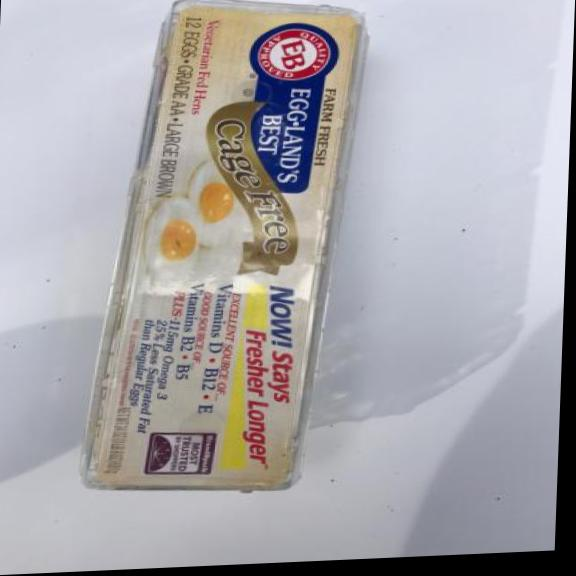Plastik: (74, 0, 381, 506)
